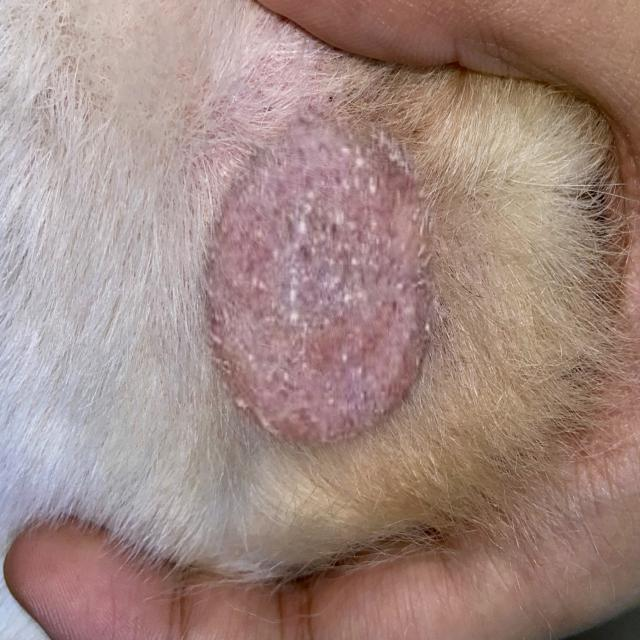ringworm: (159, 73, 486, 478)
